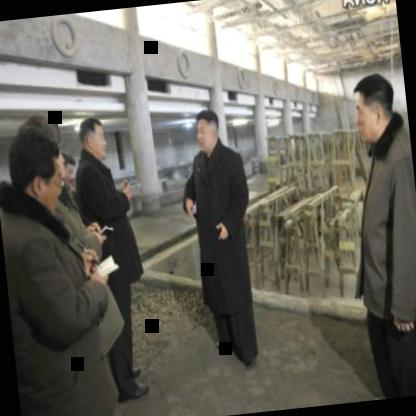head: (0, 115, 72, 218), (345, 66, 401, 152), (190, 104, 224, 156), (75, 112, 108, 165)
